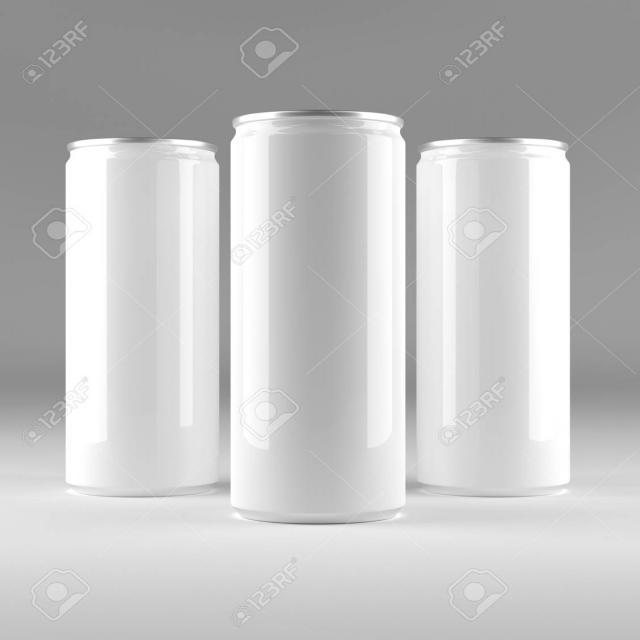can: (215, 104, 418, 546), (413, 127, 589, 511), (56, 132, 224, 496)
